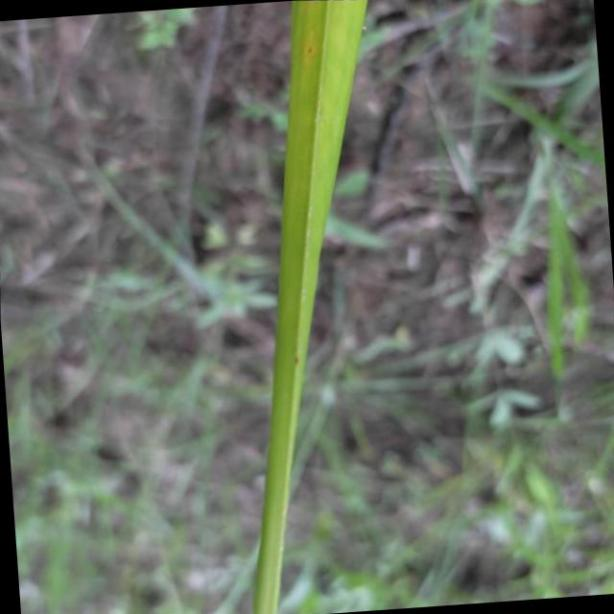nitrogen: (253, 0, 371, 614)
